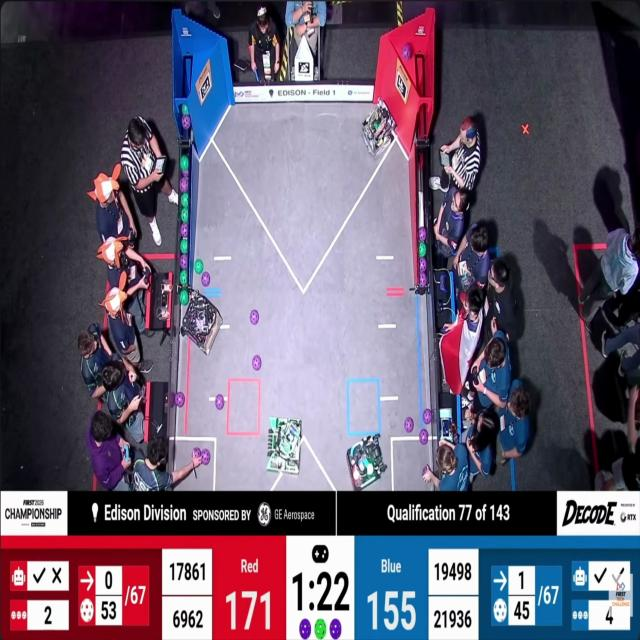artifact_green: (315, 619, 326, 639), (180, 154, 189, 171), (180, 289, 189, 305), (194, 259, 203, 274), (181, 223, 189, 238), (180, 270, 188, 285), (181, 193, 189, 208), (181, 208, 188, 223), (419, 242, 426, 257), (181, 239, 188, 253), (181, 104, 188, 116), (373, 122, 380, 131), (426, 241, 429, 257)
artifact_purple: (299, 619, 311, 639), (330, 619, 341, 639), (401, 43, 413, 60), (419, 428, 429, 444), (175, 392, 185, 407), (215, 394, 224, 410), (182, 114, 191, 130), (252, 355, 261, 371), (418, 227, 427, 242), (250, 310, 259, 325), (201, 272, 210, 287), (423, 409, 432, 424), (440, 274, 447, 293), (202, 449, 210, 465), (405, 417, 413, 433), (180, 254, 188, 269), (180, 177, 188, 192), (419, 272, 427, 287), (419, 258, 427, 272), (192, 447, 201, 458), (181, 224, 188, 238), (423, 465, 429, 476), (181, 170, 189, 178)
